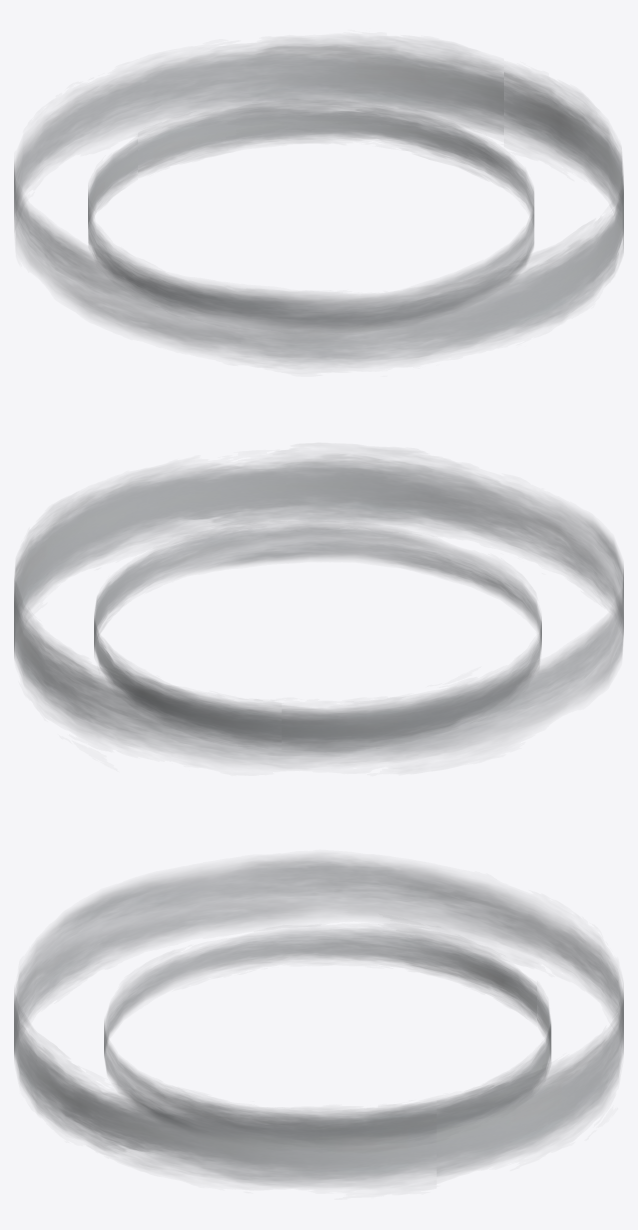
The model's file is fog.glb.
The picture shows the model from 3 angles, top to bottom: view 1: azimuth 30°, elevation 25°; view 2: azimuth 150°, elevation 25°; view 3: azimuth 270°, elevation 25°; orthographic projection.
Parts seen in each view (by area): view 1: fog_01; view 2: fog_01; view 3: fog_01.
Boxes of the visible parts, x1=… form: fog_01: x1=14, y1=41, x2=623, y2=364; fog_01: x1=14, y1=454, x2=623, y2=765; fog_01: x1=14, y1=857, x2=623, y2=1185.
Size of the model in its own units: 441 by 98.5 by 441.
1 material, 1 textured.
